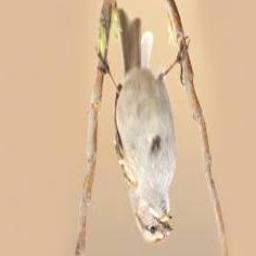Sparrow: (98, 10, 190, 244)
